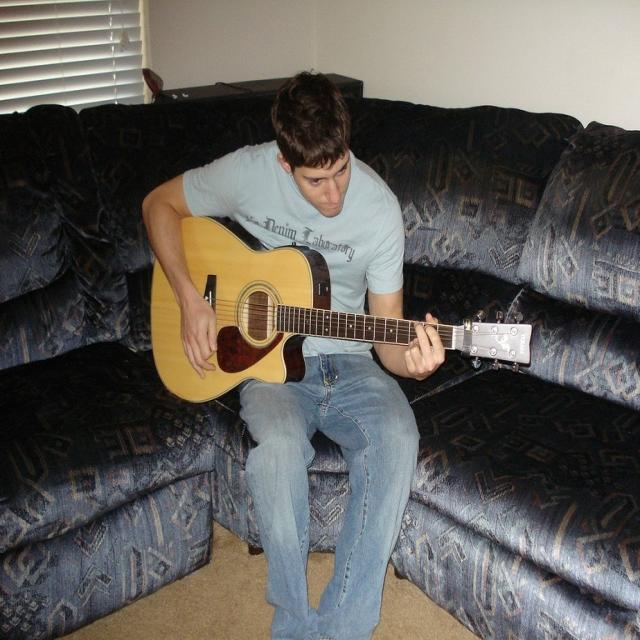guitar: (149, 215, 533, 407)
